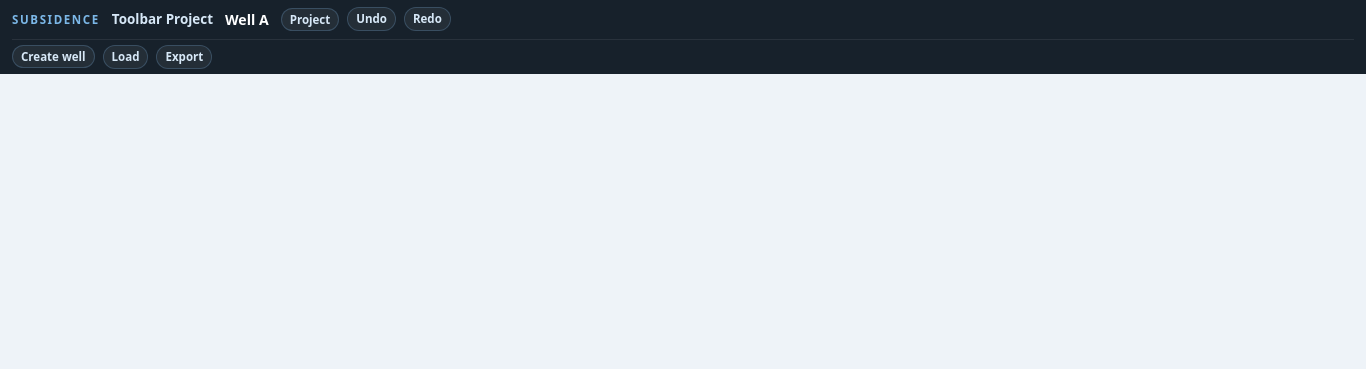
ProjectToolbar menu › opens the project menu and exposes project actions
Click the button "Project" at (310, 19), box [281, 8, 339, 31]
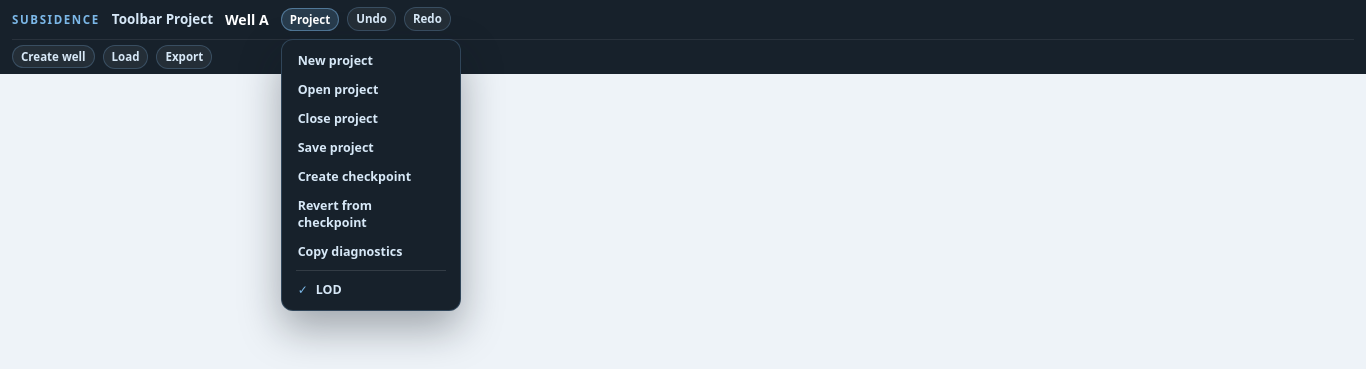
expect the button "New project" is shown: met, box [288, 46, 454, 75]
expect the button "Open project" is shown: met, box [288, 75, 454, 104]
expect the button "Close project" is shown: met, box [288, 104, 454, 133]
